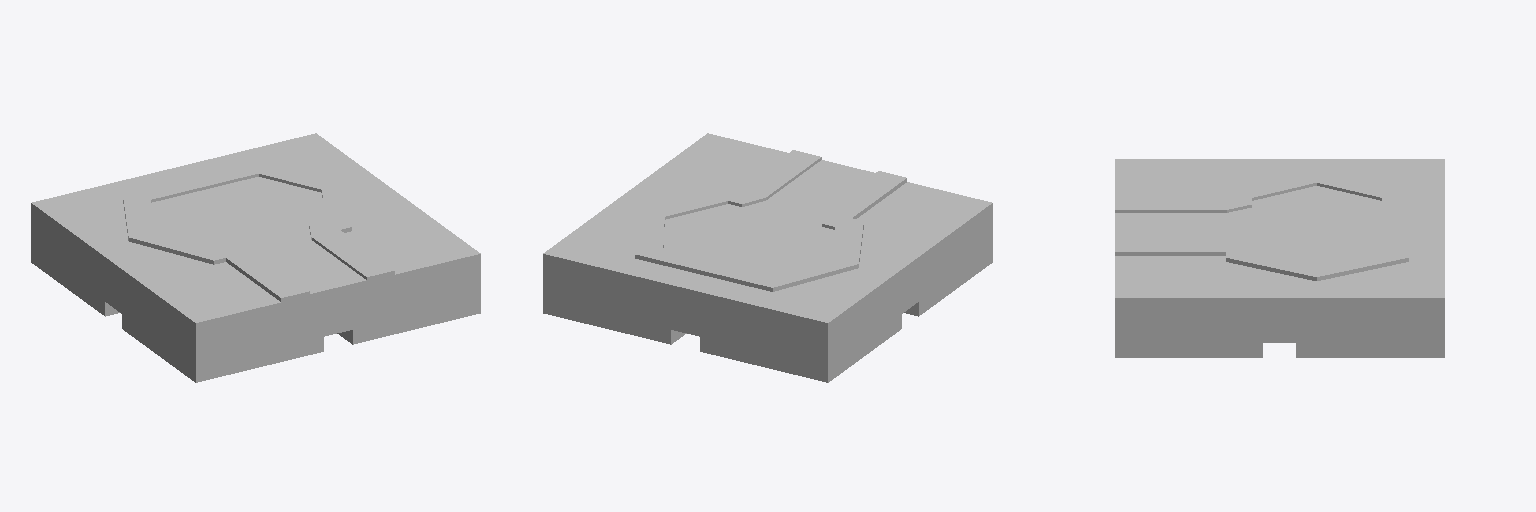
File: puzzlePiece_turnabout_N.obj
3 renders of one model, left to right at view 1: azimuth 30°, elevation 25°; view 2: azimuth 150°, elevation 25°; view 3: azimuth 270°, elevation 25°, orthographic.
Visible parts, largest first — view 1: puzzlePiece_straight:pCube1, polySurface16, polySurface17; view 2: puzzlePiece_straight:pCube1, polySurface16, polySurface17; view 3: puzzlePiece_straight:pCube1, polySurface16, polySurface17.
Boxes of the visible parts, x1=… form: puzzlePiece_straight:pCube1: x1=31, y1=133, x2=480, y2=382; polySurface16: x1=152, y1=177, x2=366, y2=295; polySurface17: x1=123, y1=160, x2=394, y2=305; puzzlePiece_straight:pCube1: x1=543, y1=133, x2=992, y2=382; polySurface16: x1=664, y1=160, x2=874, y2=274; polySurface17: x1=635, y1=150, x2=906, y2=291; puzzlePiece_straight:pCube1: x1=1115, y1=159, x2=1444, y2=357; polySurface16: x1=1115, y1=186, x2=1381, y2=264; polySurface17: x1=1115, y1=171, x2=1408, y2=280.
Size of the model in its own units: 0.5 by 0.107 by 0.5.